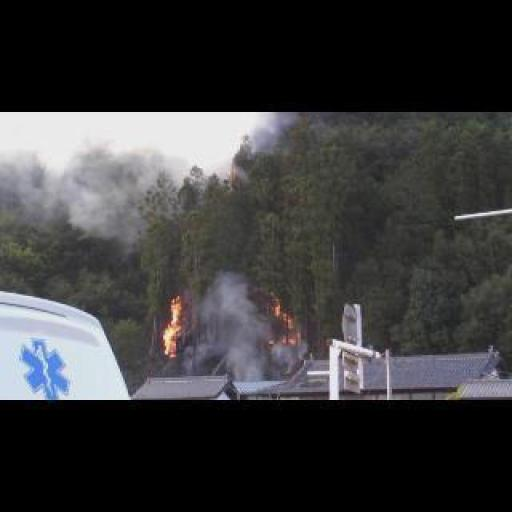smoke: (193, 266, 263, 380), (158, 296, 184, 358), (272, 294, 296, 326), (264, 338, 296, 344)
